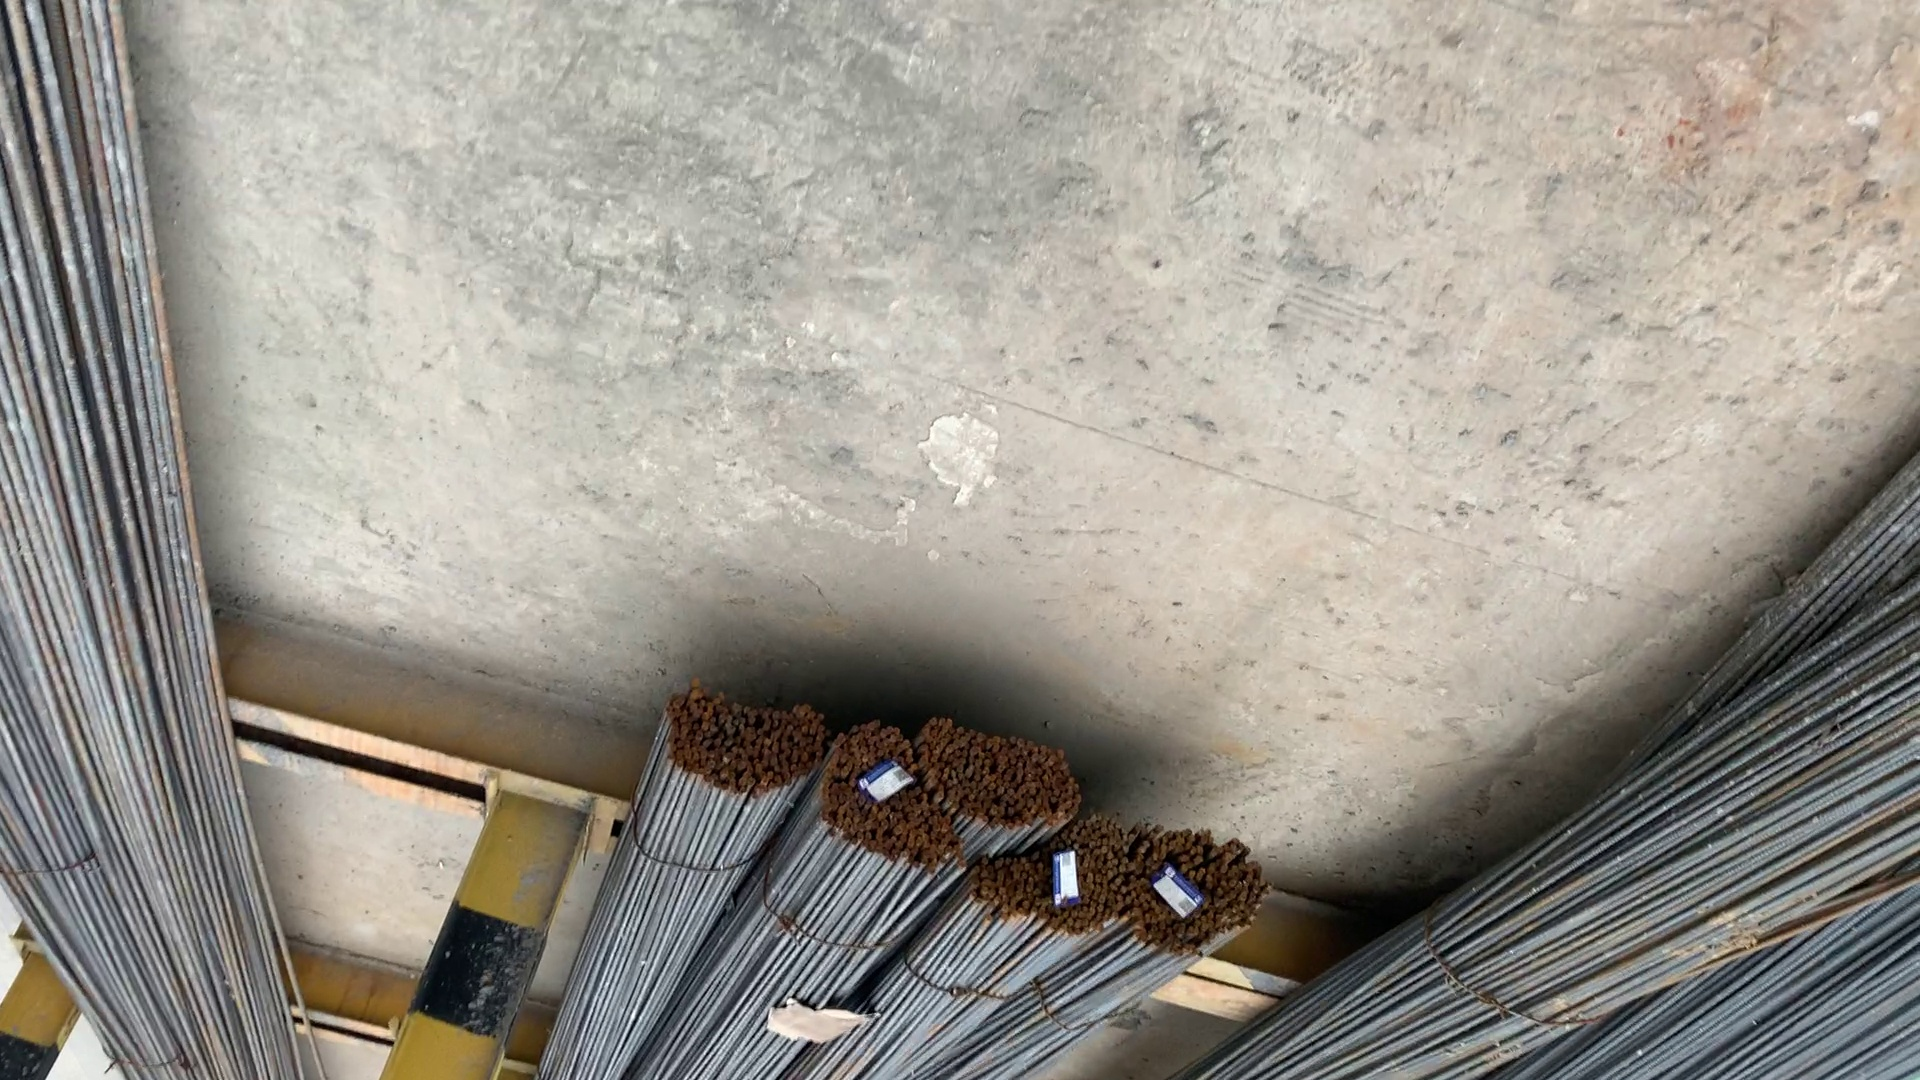rebar: (1127, 825, 1266, 956), (824, 731, 942, 869), (978, 825, 1127, 934), (934, 723, 1076, 833), (666, 698, 814, 793)
